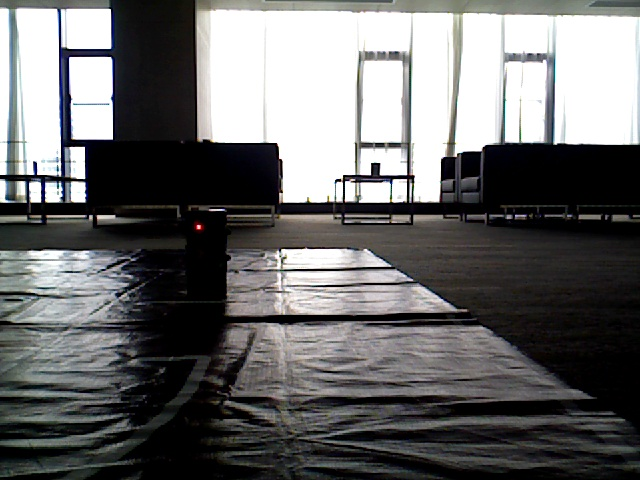red: (184, 209, 222, 287)
